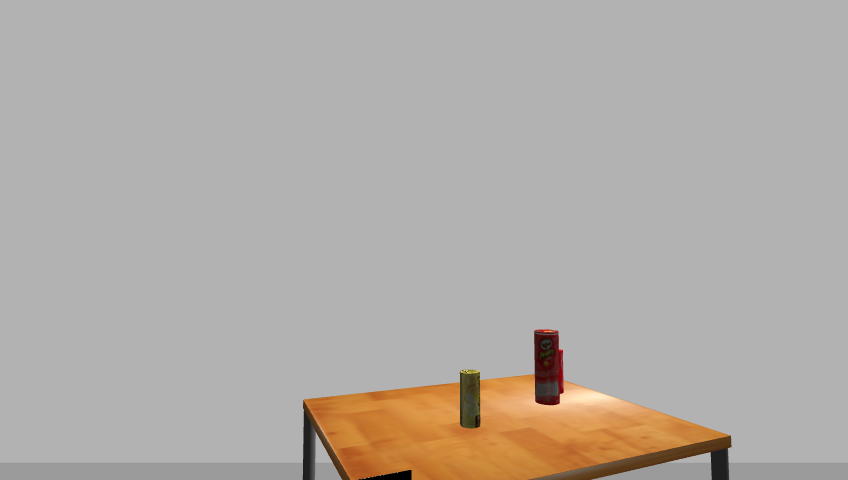aruco marker: (347, 470, 417, 480)
biscuits pack: (458, 369, 482, 429)
coke can: (551, 349, 565, 395)
dinner table: (291, 372, 737, 480)
pringles can: (532, 329, 561, 407)
